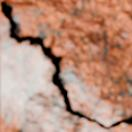brick: (0, 13, 131, 131), (8, 0, 131, 125)
crack: (0, 0, 131, 130)
